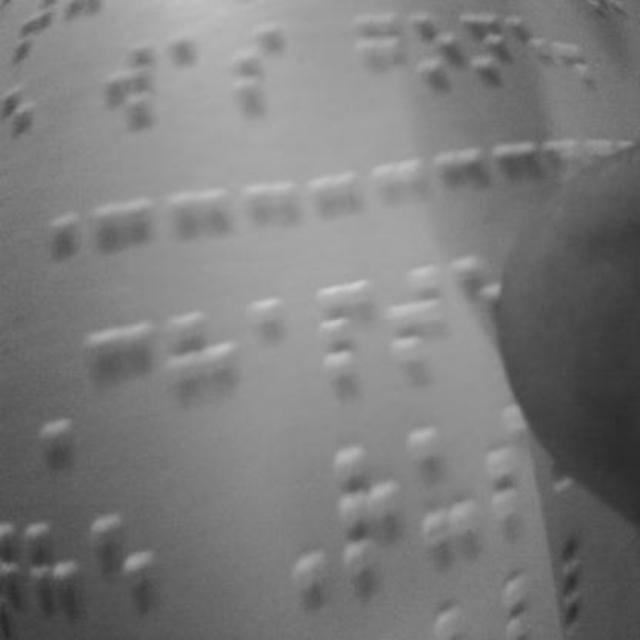braiile: (330, 440, 406, 582), (409, 414, 479, 562), (172, 306, 240, 439), (316, 271, 382, 403), (88, 510, 154, 640), (385, 256, 451, 384), (248, 294, 310, 421), (103, 29, 163, 141), (230, 3, 286, 121), (168, 22, 216, 128), (1, 72, 44, 168)
